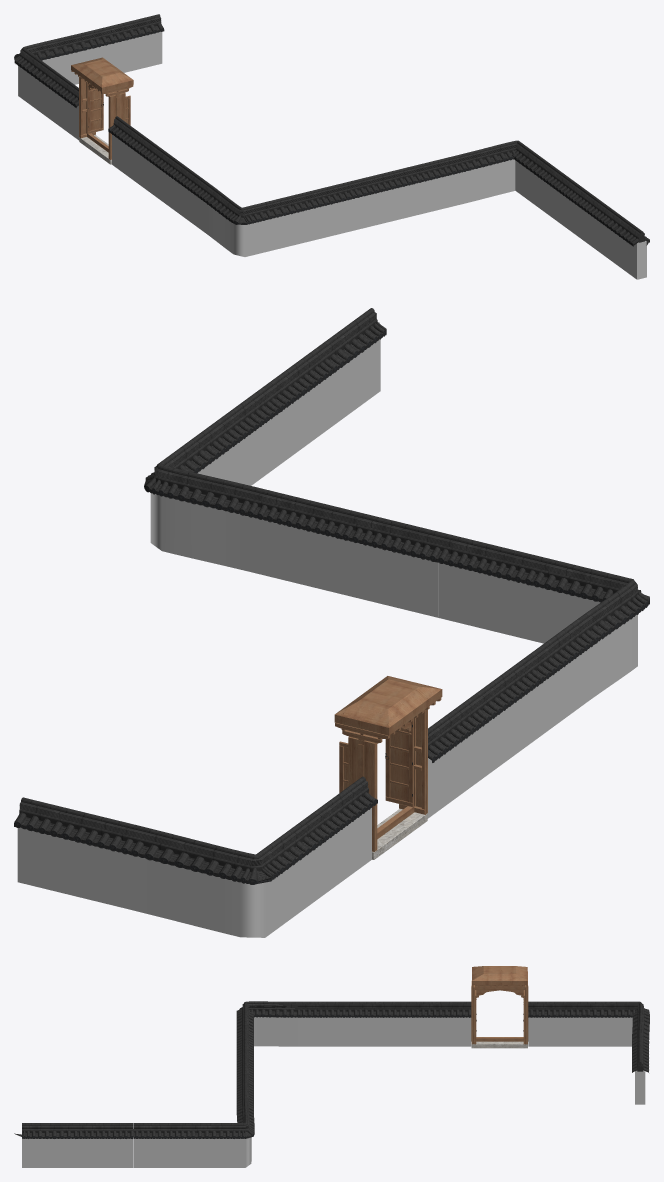
File: SM_HBJ_HG_StoneWallH_Splines_31.fbx
The picture shows the model from 3 angles, top to bottom: view 1: azimuth 30°, elevation 25°; view 2: azimuth 150°, elevation 25°; view 3: azimuth 270°, elevation 25°; orthographic projection. The views are drawn at different scales.
Parts seen in each view (by area): view 1: SM_HBJ_HG_StoneWallH_Splines_31; view 2: SM_HBJ_HG_StoneWallH_Splines_31; view 3: SM_HBJ_HG_StoneWallH_Splines_31.
Boxes of the visible parts, x1=… form: SM_HBJ_HG_StoneWallH_Splines_31: x1=14, y1=14, x2=649, y2=279; SM_HBJ_HG_StoneWallH_Splines_31: x1=14, y1=308, x2=649, y2=937; SM_HBJ_HG_StoneWallH_Splines_31: x1=14, y1=966, x2=649, y2=1167.
Bounding box in the file's own units: 1178 × 2414 × 315.
